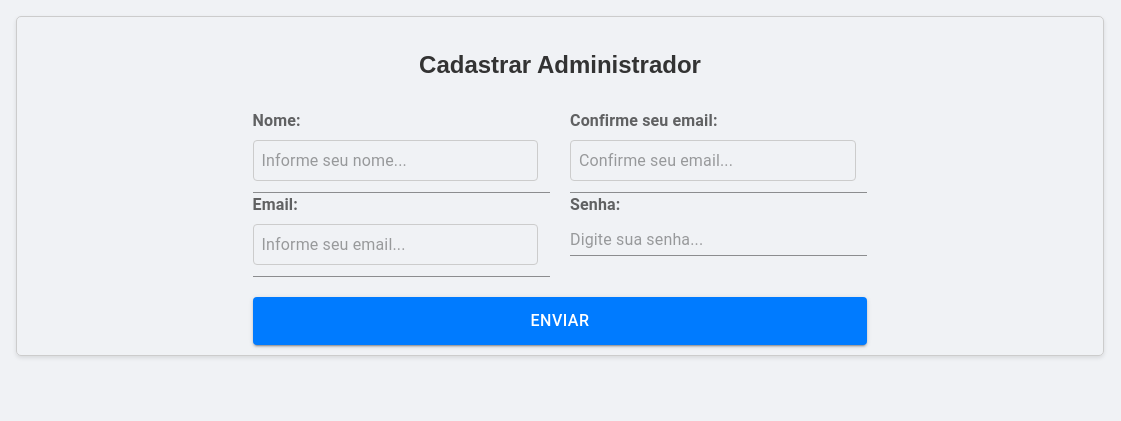
Test: Testes Formulário p/ Cadastro de Admins › Valida se os campos são obrigatórios.
The image size is (1121, 421).
Note: Simula ação no botão de enviar
Click the button "Enviar" at (560,321), box [253, 297, 867, 345]
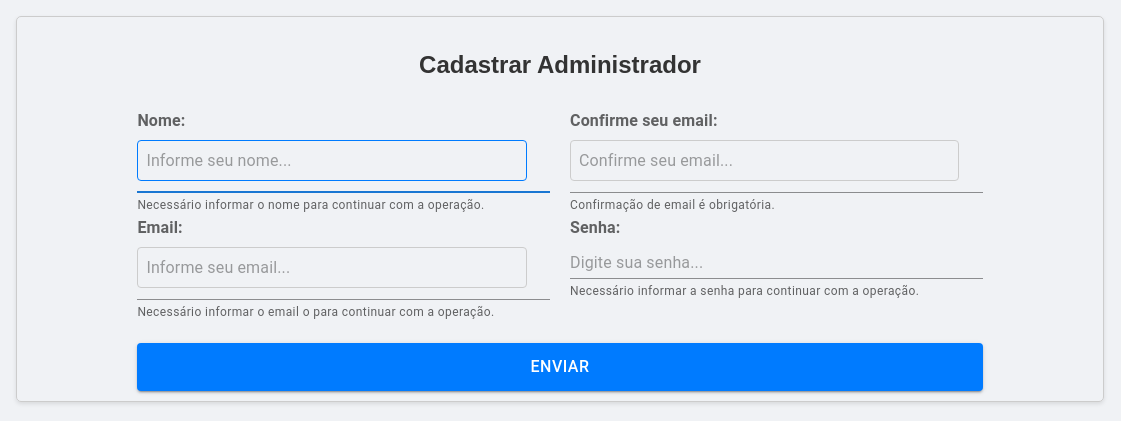
Expected: the text "Necessário informar o nome para continuar com a operação." is shown, [137, 198, 485, 212]
Expected: the text "Necessário informar o email o para continuar com a operação." is shown, [137, 303, 550, 323]
Expected: the text "Confirmação de email é obrigatória." is shown, [570, 198, 775, 212]
